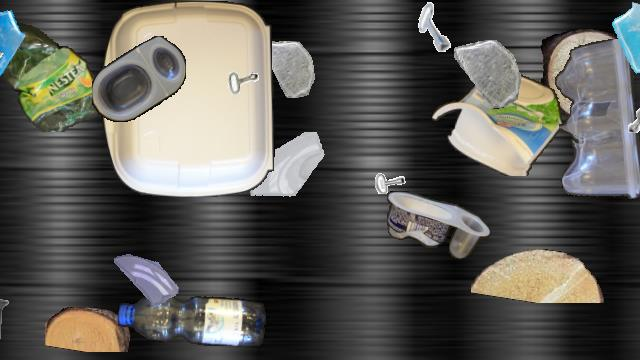glass: (248, 132, 330, 214), (454, 40, 522, 108), (114, 248, 178, 312), (260, 41, 316, 97), (608, 1, 640, 75), (0, 1, 25, 79)
metal: (209, 41, 269, 101), (410, 1, 462, 53), (365, 149, 409, 193), (0, 297, 26, 353), (620, 98, 640, 140), (0, 52, 16, 92), (0, 206, 15, 244)
plastic: (102, 1, 274, 197), (552, 39, 640, 203), (432, 70, 562, 176), (0, 12, 102, 132), (92, 36, 186, 122), (118, 292, 266, 346), (387, 191, 489, 259)
wood: (538, 29, 634, 119), (471, 249, 607, 303), (45, 307, 131, 351)
